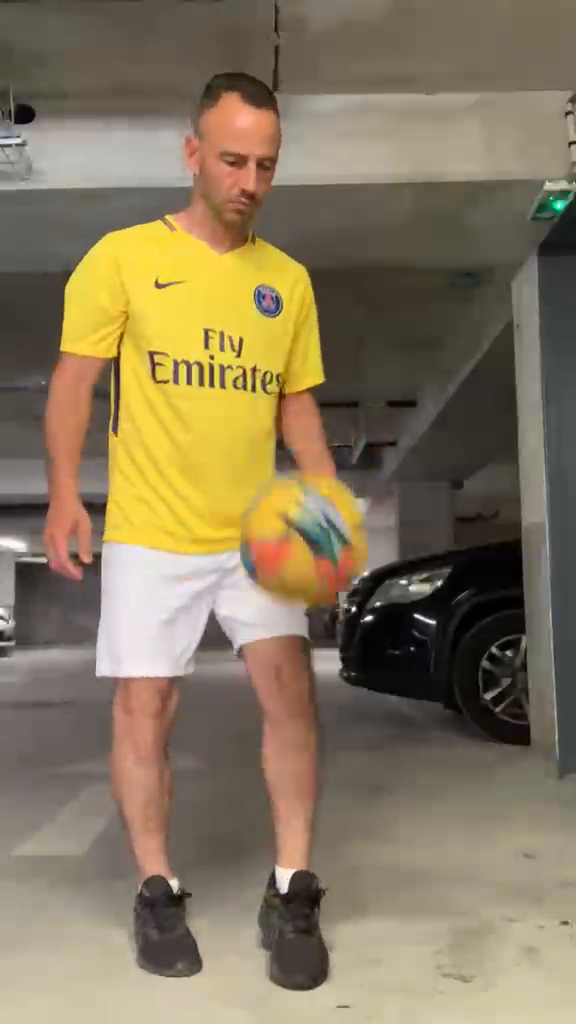ball: (231, 475, 363, 606)
